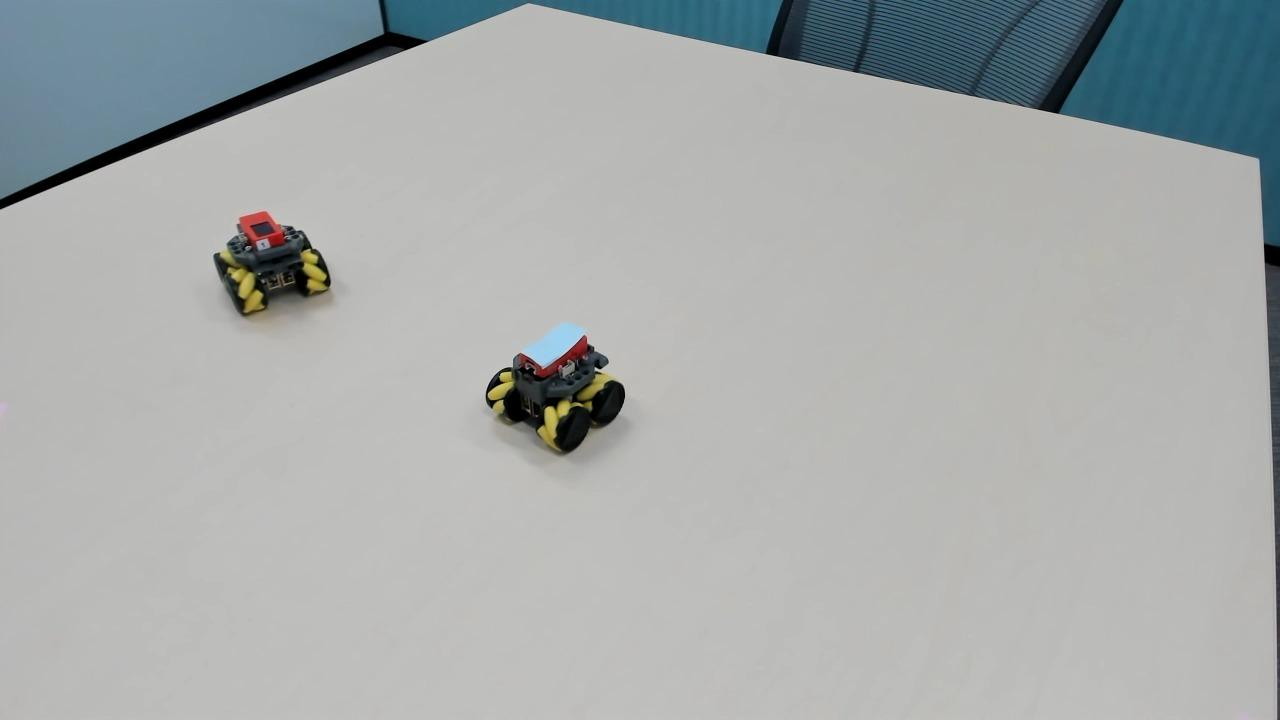B-Robot: (476, 308, 639, 463)
R-Robot: (200, 202, 335, 328)
